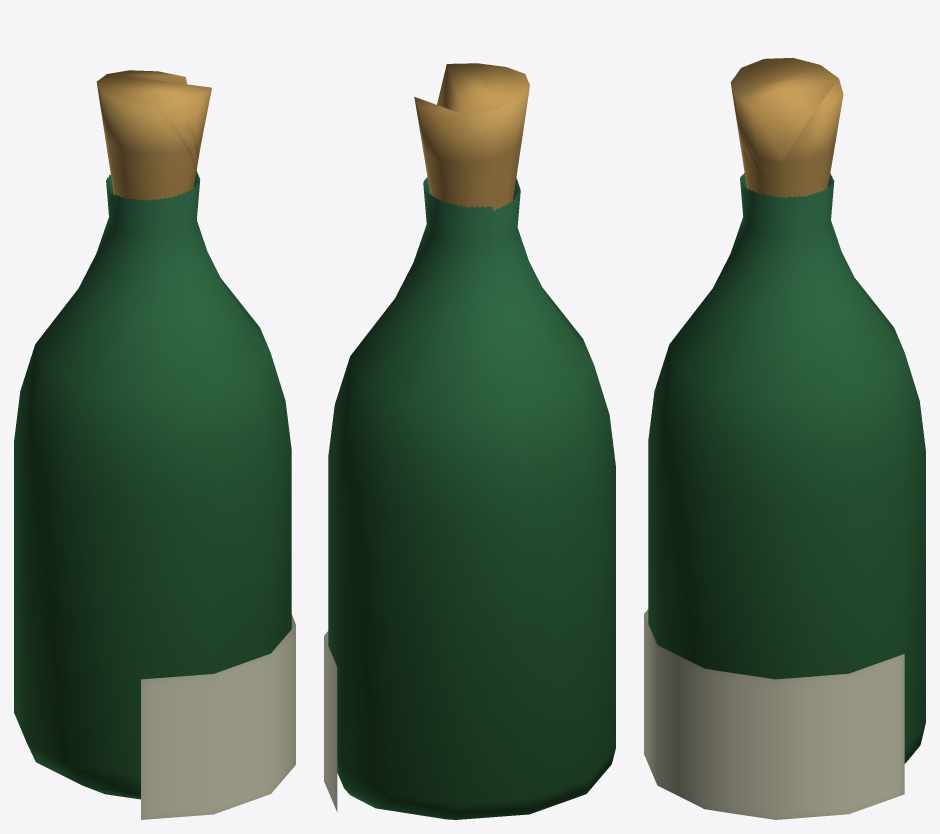
Rendered from Wine.002.fbx.
3 renders of one model, left to right at view 1: azimuth 30°, elevation 25°; view 2: azimuth 150°, elevation 25°; view 3: azimuth 270°, elevation 25°, orthographic. The views are drawn at different scales.
Parts seen in each view (by area): view 1: Wine.002; view 2: Wine.002; view 3: Wine.002.
Part boxes in pixels (left/top/right/bottom): Wine.002: left=14, top=70, right=295, bottom=819; Wine.002: left=324, top=63, right=615, bottom=819; Wine.002: left=644, top=57, right=925, bottom=819.
Bounding box in the file's own units: 23.79 × 67.09 × 23.79.
